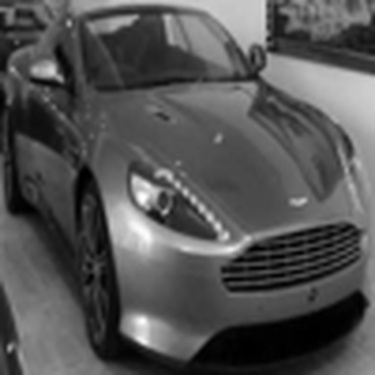car: (5, 4, 358, 358), (5, 2, 57, 33)
